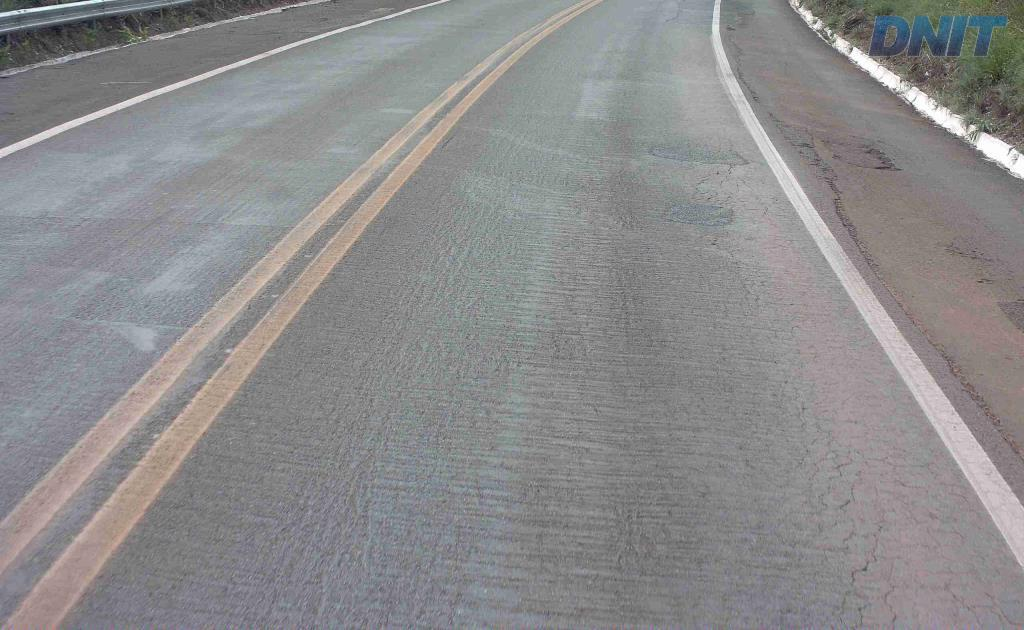crack: (674, 203, 709, 226)
